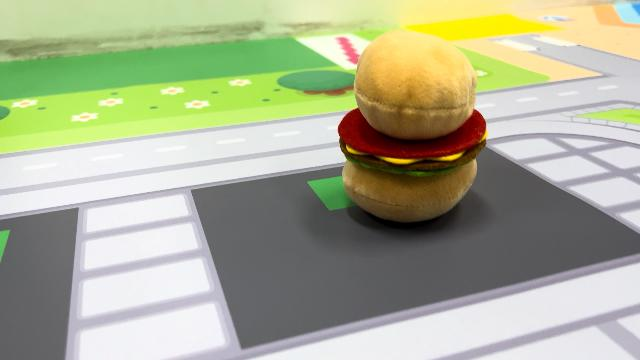burger: (334, 26, 491, 226)
